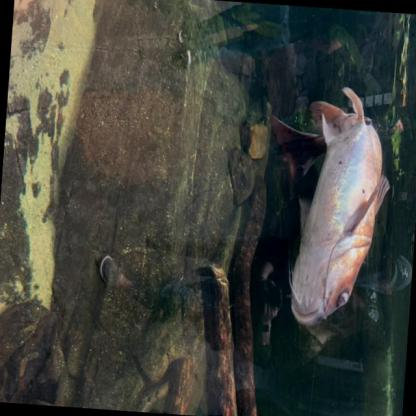fish: (256, 76, 397, 334)
